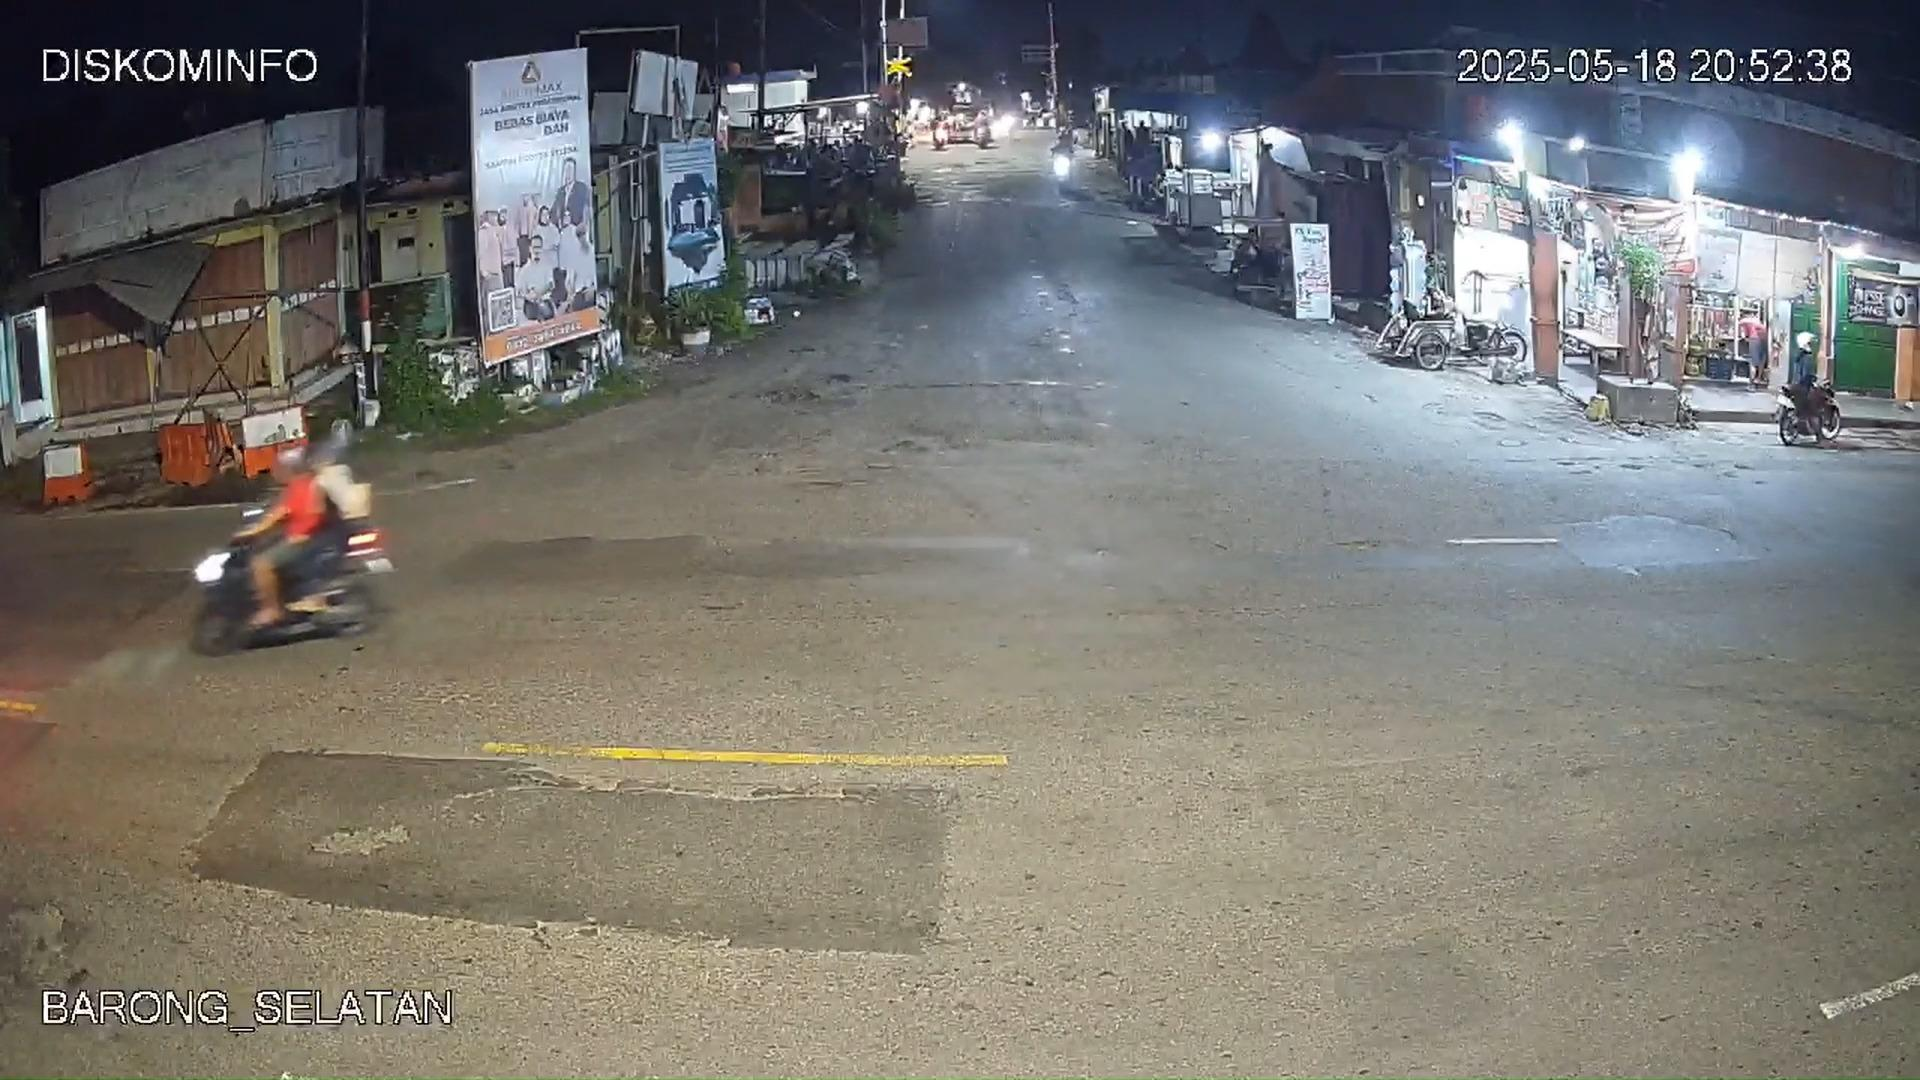Motor: (196, 423, 388, 655), (1775, 369, 1844, 446)
mobil: (938, 113, 982, 148)
